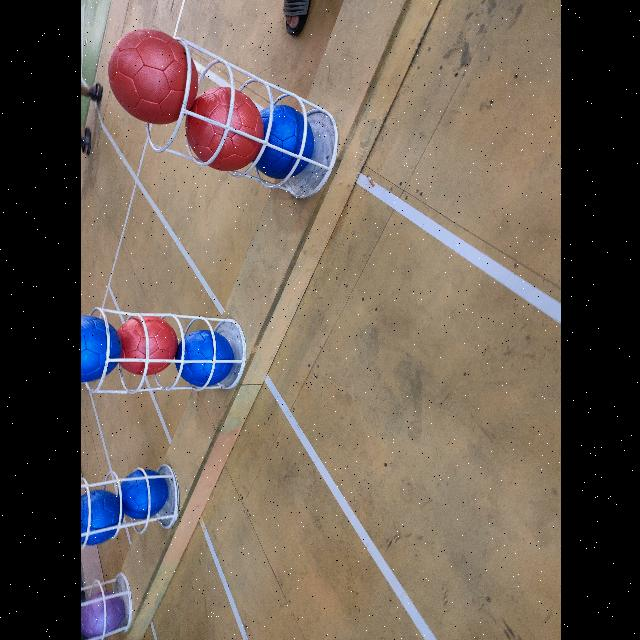B: (262, 105, 312, 179), (176, 329, 232, 388), (80, 316, 120, 382), (118, 468, 166, 520), (80, 489, 120, 547)
R: (108, 28, 196, 124), (184, 89, 258, 171), (117, 317, 175, 377)
